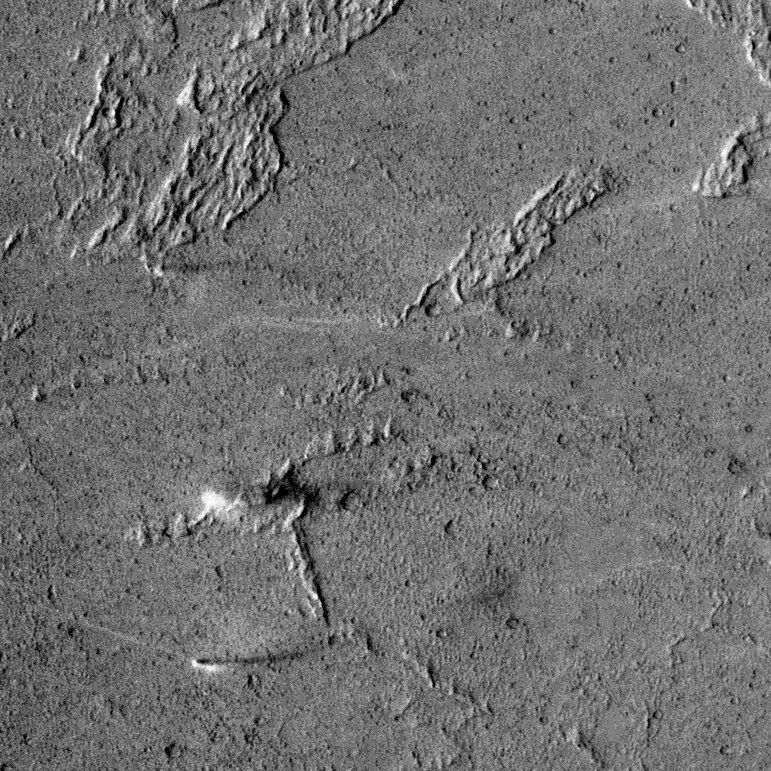dust_devil: (198, 464, 355, 521), (190, 649, 304, 675), (153, 259, 232, 278)
